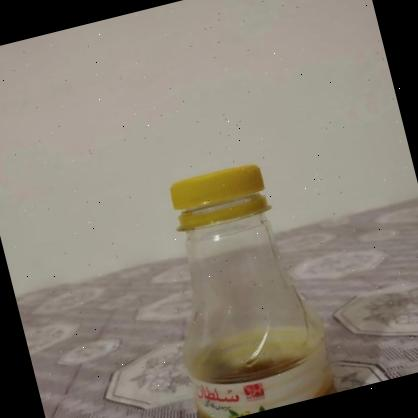bottle: (127, 141, 344, 418)
cap: (154, 156, 272, 242)
label: (183, 346, 337, 418)
